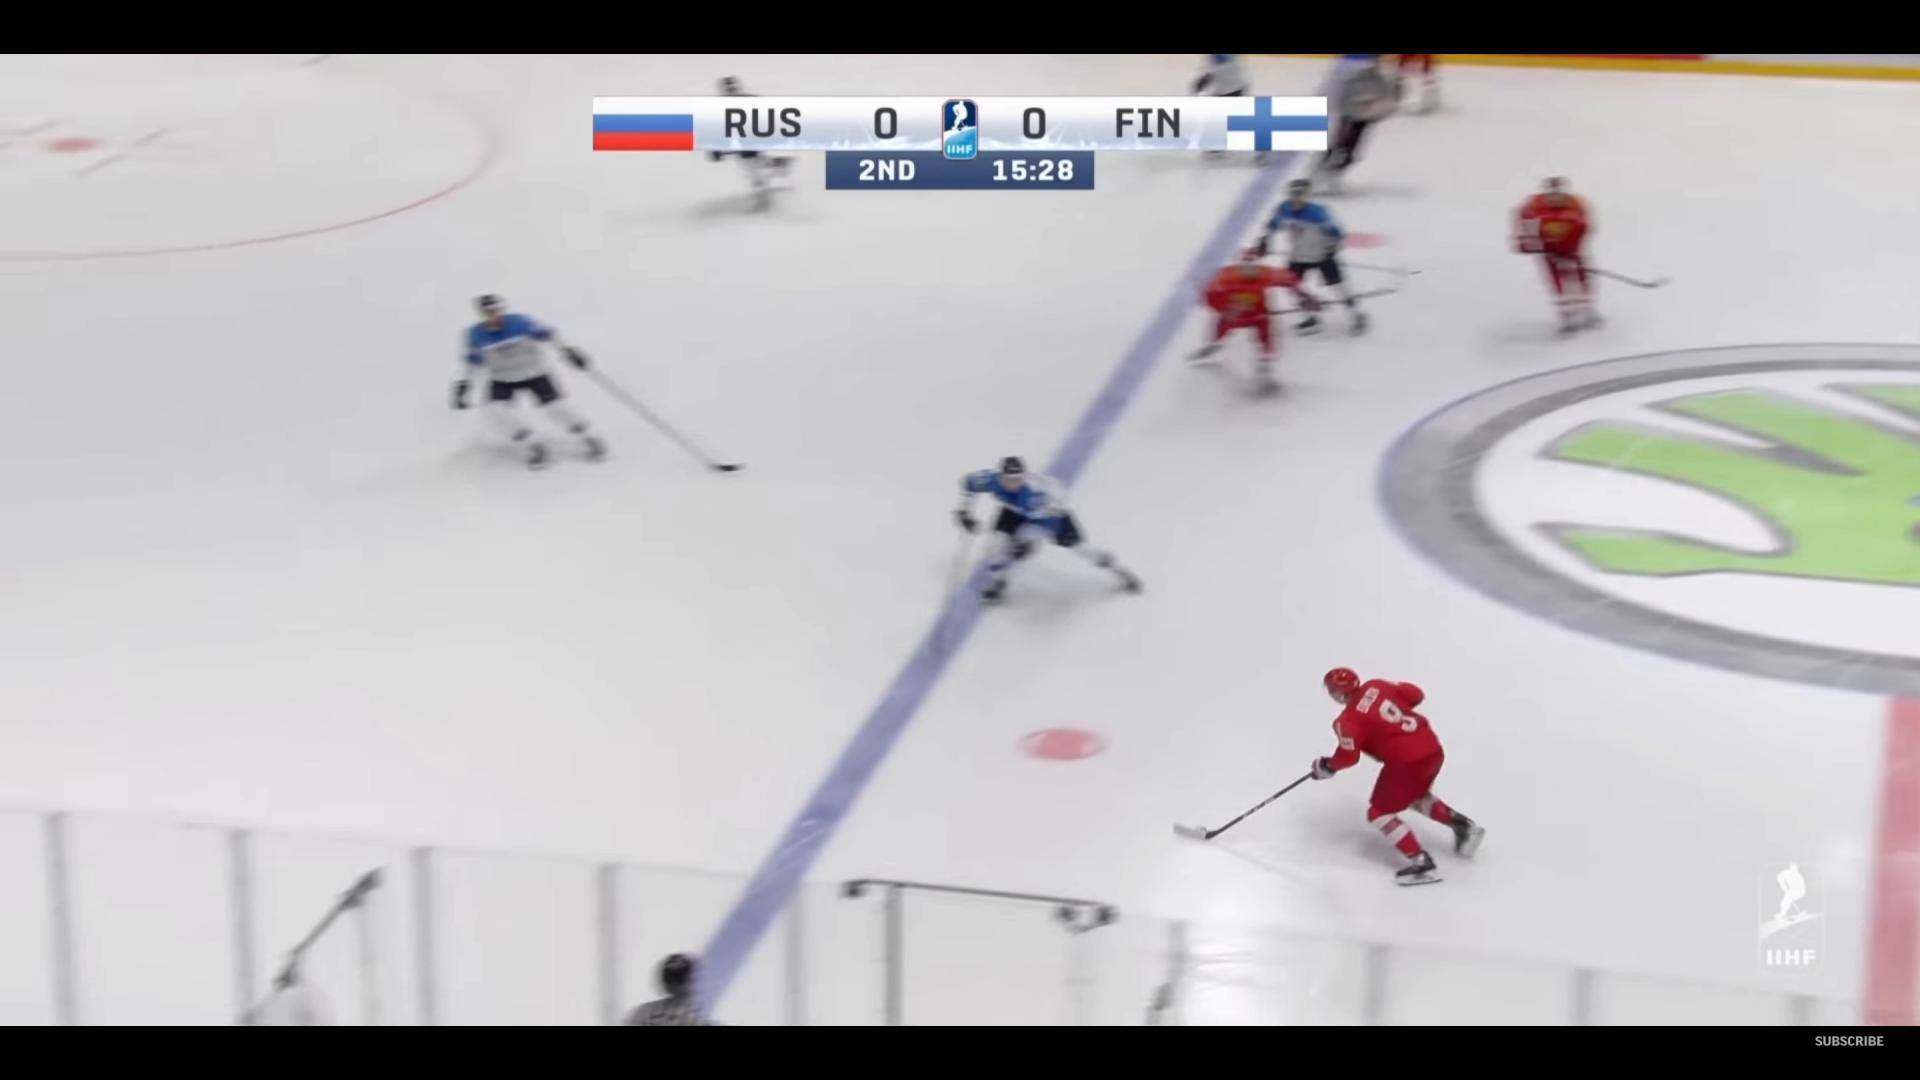puck: (1196, 825, 1207, 832)
